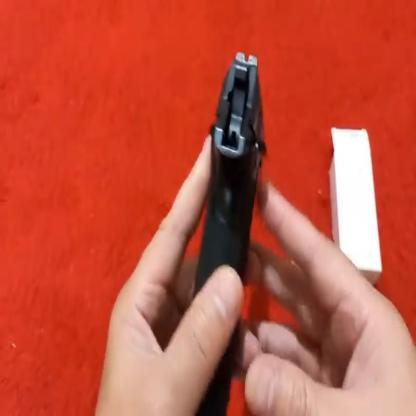handgun: (204, 44, 269, 304)
